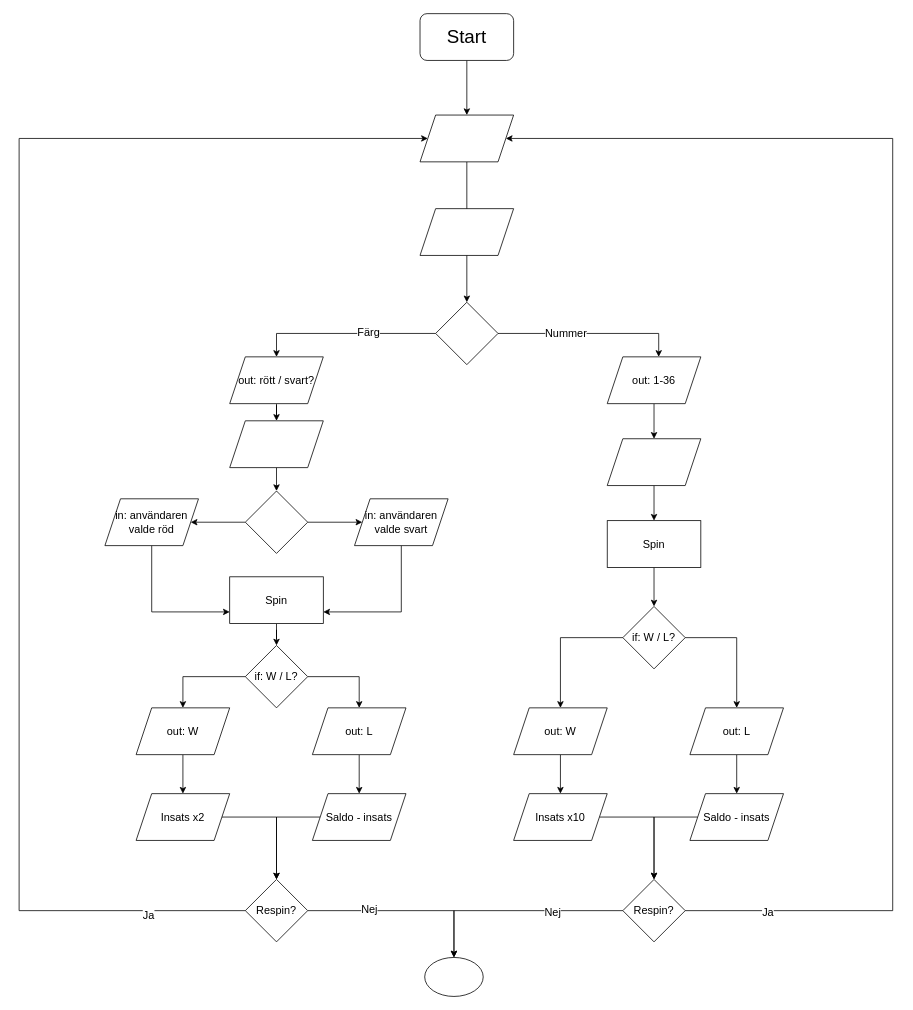
Image size: 913x1010. Some labels were removed from this diagram. The centre of each missing label's shape, as x and y in pixels:
End: the point at 453,976
if (num/färg): the point at 466,333
if: röd/svart: the point at 276,521
in: Bet (100, 300, 500): the point at 466,231
in: svar färg: the point at 276,444
in: svar nummer: the point at 653,462
Insats (1000kr): the point at 466,138
